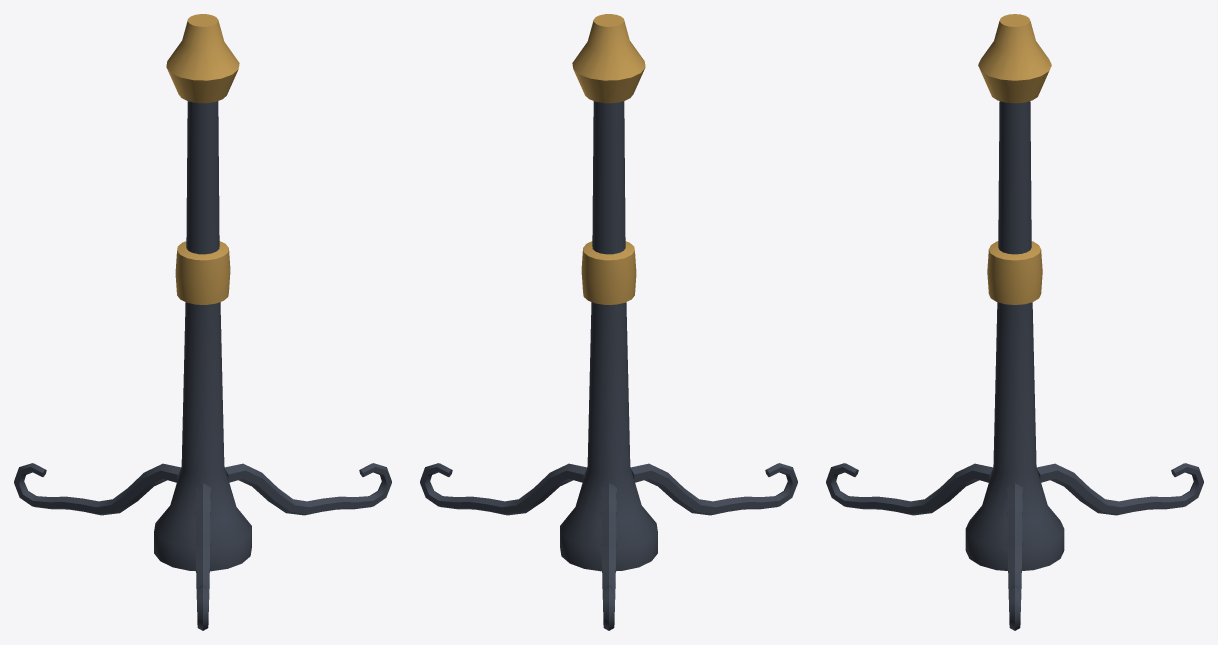
Rendered from orrery_stand.glb.
3 renders of one model, left to right at view 1: azimuth 30°, elevation 25°; view 2: azimuth 150°, elevation 25°; view 3: azimuth 270°, elevation 25°, orthographic.
Parts seen in each view (by area): view 1: orrery_stand; view 2: orrery_stand; view 3: orrery_stand.
Boxes of the visible parts, box(x1,y1,x2,y2) form: orrery_stand: box(14, 14, 391, 630); orrery_stand: box(420, 14, 797, 630); orrery_stand: box(826, 14, 1203, 630).
Bounding box in the file's own units: 1.07 × 1.9 × 1.23.
